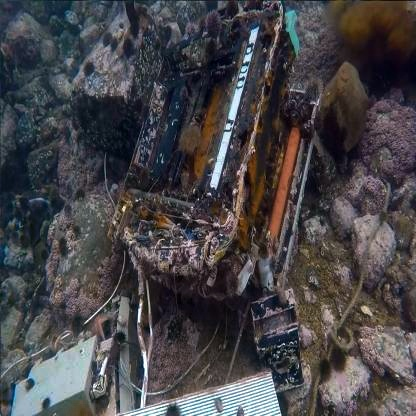electronics: (141, 50, 308, 318)
